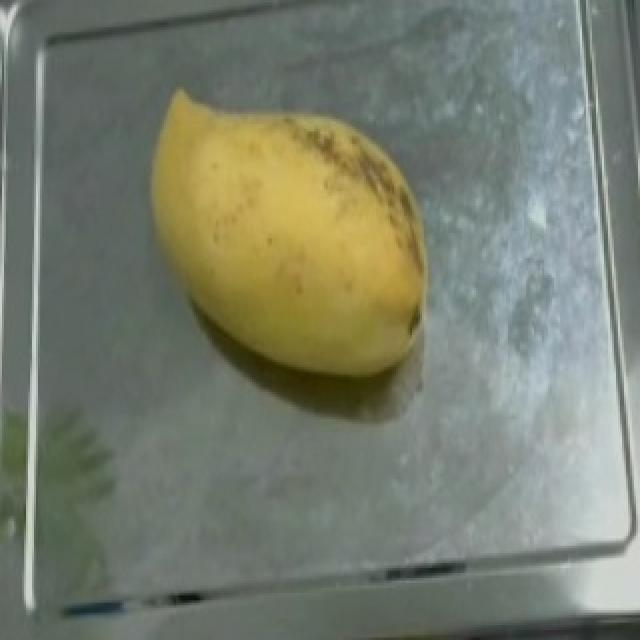fruit: (124, 77, 452, 409)
